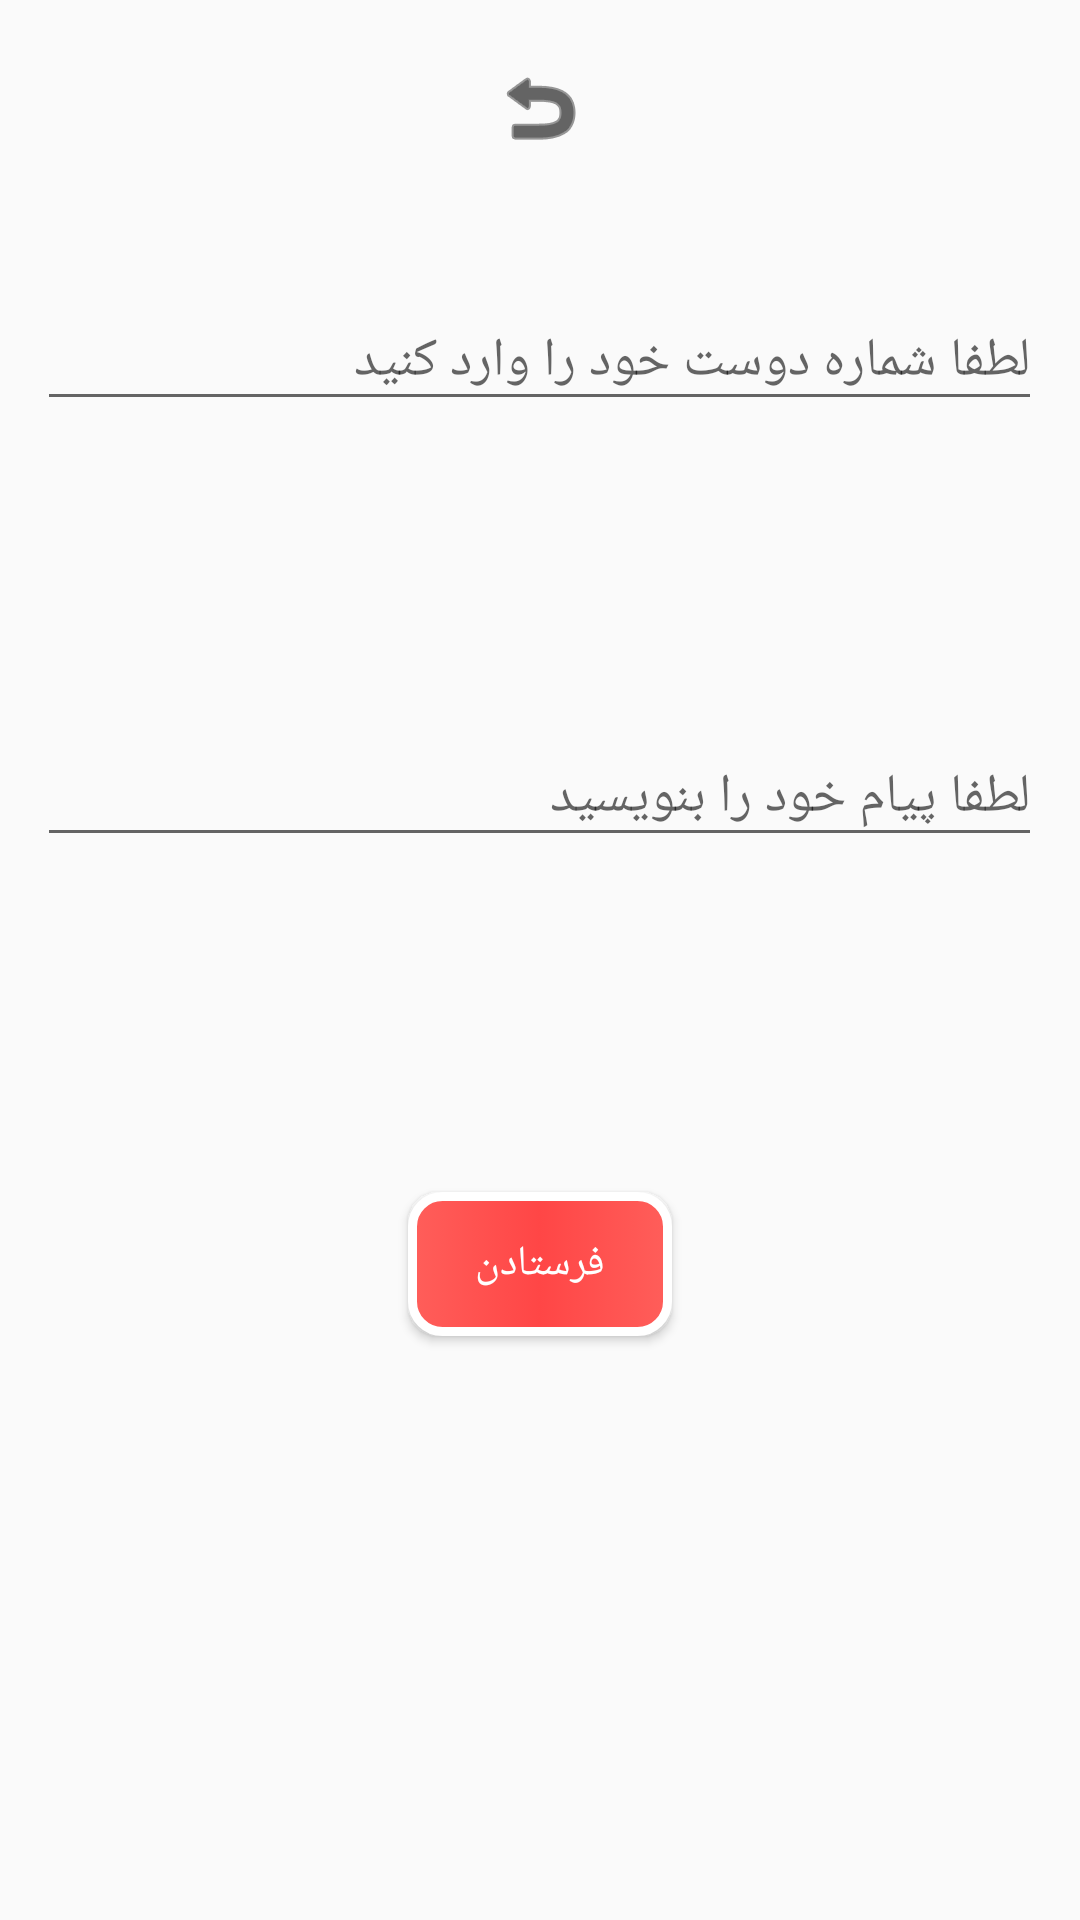

Icon bounding boxes for this 1080px×1920px phone screenshot, format (x1, y1, x2, y2):
revert: (507, 77, 576, 140)
